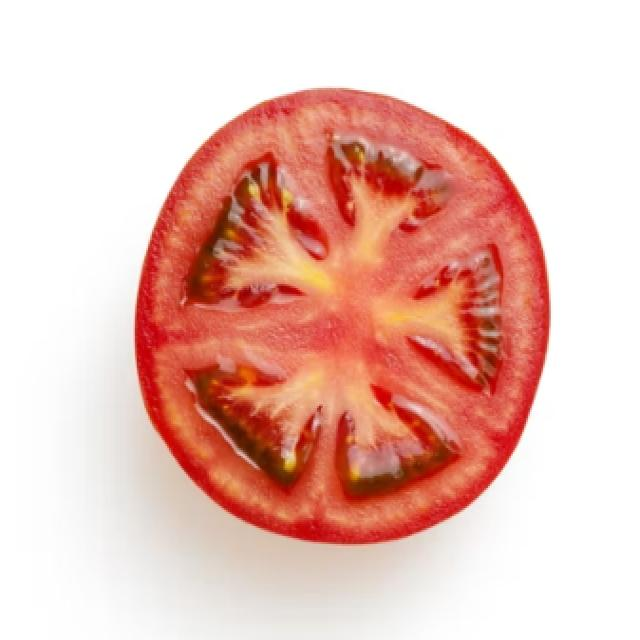Tomato: (140, 84, 555, 542)
